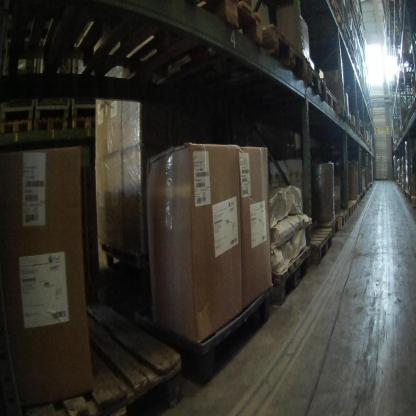pallet: (31, 292, 194, 414), (87, 1, 279, 85), (134, 289, 271, 384), (0, 2, 101, 77), (96, 235, 154, 294), (262, 243, 312, 306), (263, 23, 308, 81), (293, 226, 334, 268), (33, 108, 71, 144), (67, 113, 105, 148), (304, 12, 344, 41), (308, 65, 330, 106), (1, 117, 30, 142), (312, 218, 338, 245), (294, 3, 341, 17), (331, 28, 351, 54), (326, 83, 342, 115), (334, 209, 348, 233), (347, 49, 358, 72), (338, 100, 348, 124), (341, 202, 356, 217), (340, 204, 353, 221), (350, 13, 363, 30), (404, 109, 413, 130), (399, 121, 408, 135), (403, 188, 412, 201), (353, 196, 360, 212), (350, 119, 356, 136), (410, 192, 416, 207), (348, 112, 351, 131), (413, 93, 416, 112), (410, 104, 414, 118)
stillage: (332, 144, 363, 199), (356, 146, 370, 193), (340, 0, 351, 50), (353, 32, 362, 83), (347, 10, 355, 65)
